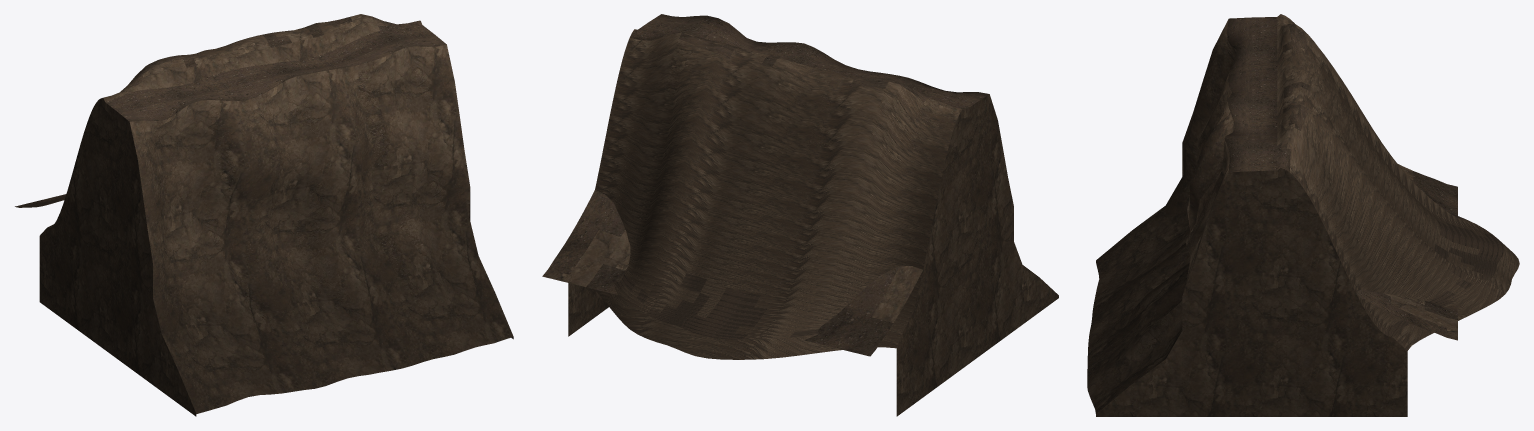
Rendered from seacliff_straight6c_h3_v5_dead.glb.
3 renders of one model, left to right at view 1: azimuth 30°, elevation 25°; view 2: azimuth 150°, elevation 25°; view 3: azimuth 270°, elevation 25°, orthographic. The views are drawn at different scales.
Visible parts, largest first — view 1: seacliff_straight6c_h3; view 2: seacliff_straight6c_h3; view 3: seacliff_straight6c_h3.
Part boxes in pixels (x1,y1,x2,y2): seacliff_straight6c_h3: [15, 14, 513, 416]; seacliff_straight6c_h3: [542, 14, 1058, 416]; seacliff_straight6c_h3: [1087, 14, 1519, 416].
Size of the model in its own units: 6 by 4.84 by 7.13.
Materials: 2 (2 with a texture image).
